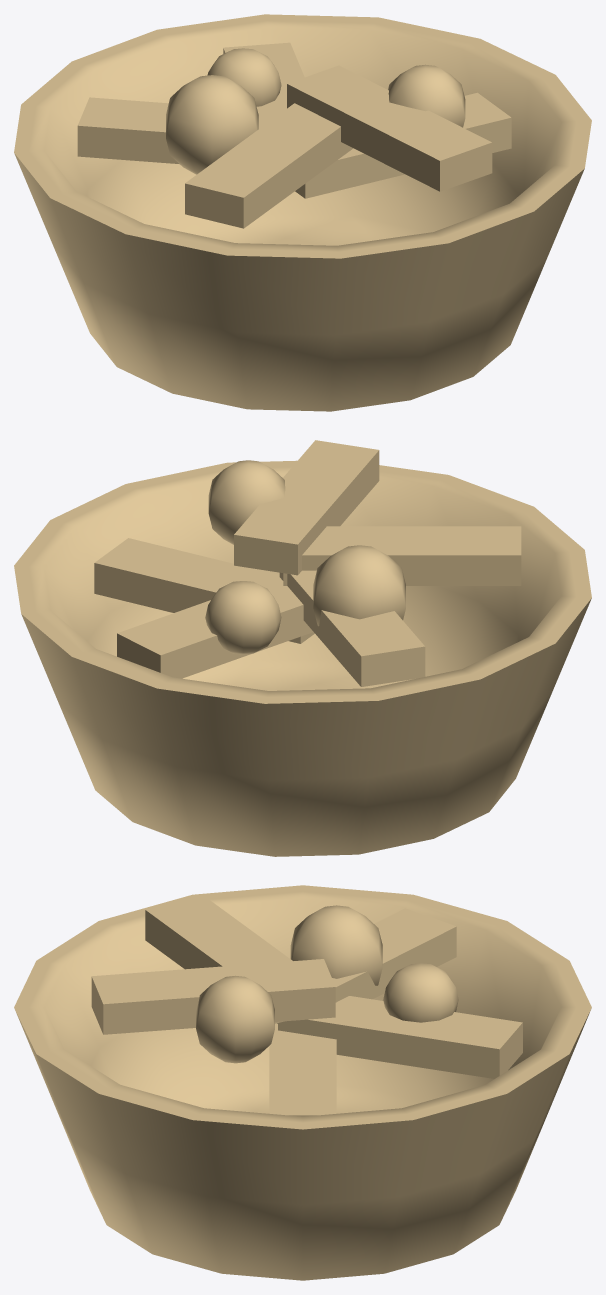
Rendered from RauQua_Ro.glb.
The picture shows the model from 3 angles, top to bottom: view 1: azimuth 30°, elevation 25°; view 2: azimuth 150°, elevation 25°; view 3: azimuth 270°, elevation 25°; orthographic projection.
Visible parts, largest first — view 1: RauQua_Ro; view 2: RauQua_Ro; view 3: RauQua_Ro.
Boxes of the visible parts, x1,y1,x2,y2 form: RauQua_Ro: (14, 14, 591, 411); RauQua_Ro: (14, 440, 591, 856); RauQua_Ro: (14, 885, 591, 1280).
Bounding box in the file's own units: 0.3429 × 0.1662 × 0.3429.
